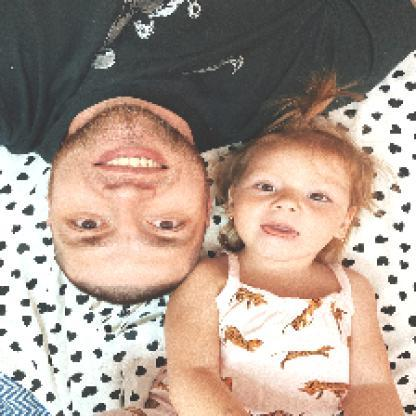child: (148, 70, 406, 416)
